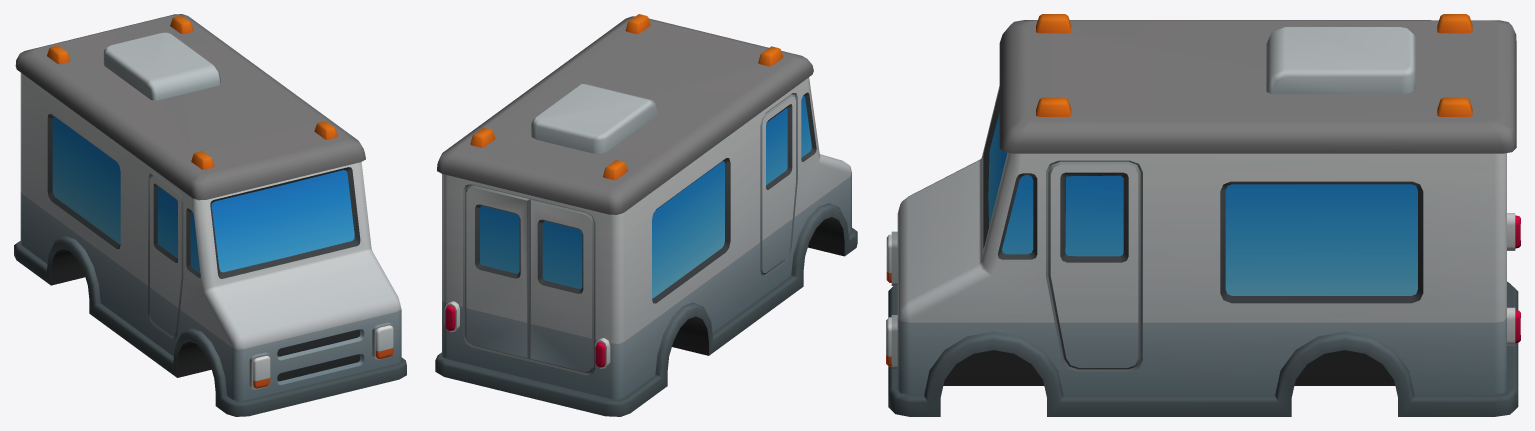
Rendered from u_van_van_.glb.
3 views of the same model, side by side, from view 1: azimuth 30°, elevation 25°; view 2: azimuth 150°, elevation 25°; view 3: azimuth 270°, elevation 25° (orthographic). The views are drawn at different scales.
Parts seen in each view (by area): view 1: Van; view 2: Van; view 3: Van.
Part boxes in pixels (x1=…): Van: x1=14, y1=14, x2=406, y2=416; Van: x1=435, y1=14, x2=857, y2=416; Van: x1=886, y1=14, x2=1520, y2=416.
Bounding box in the file's own units: 229 × 272 × 507.
5 materials, 5 textured.
